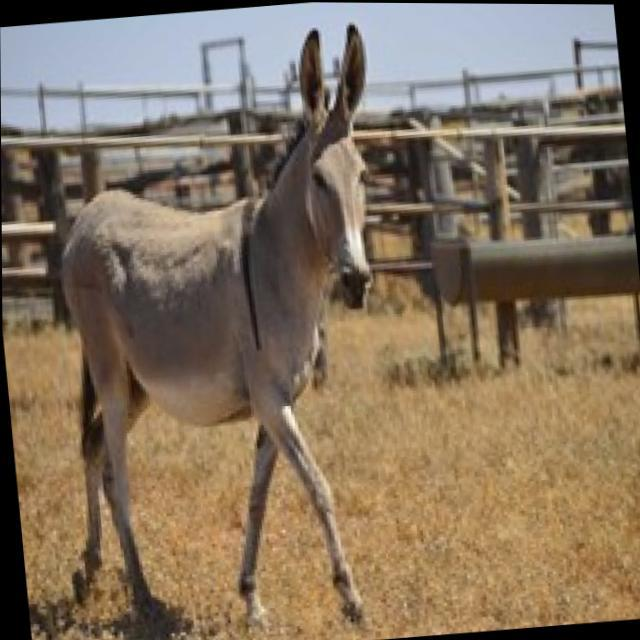Donkey: (7, 21, 480, 640)
